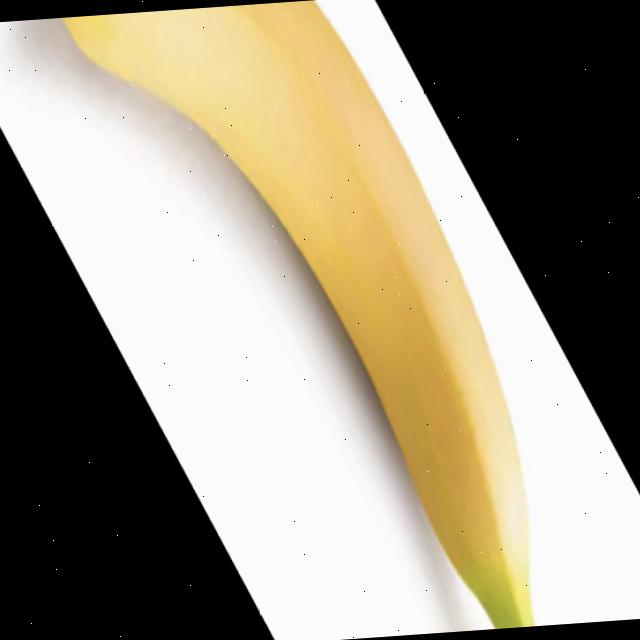banana: (36, 0, 575, 640)
